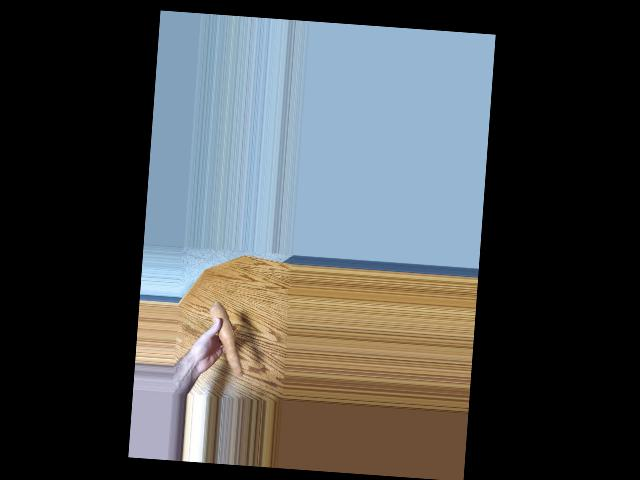sweet_potato: (213, 299, 243, 377)
